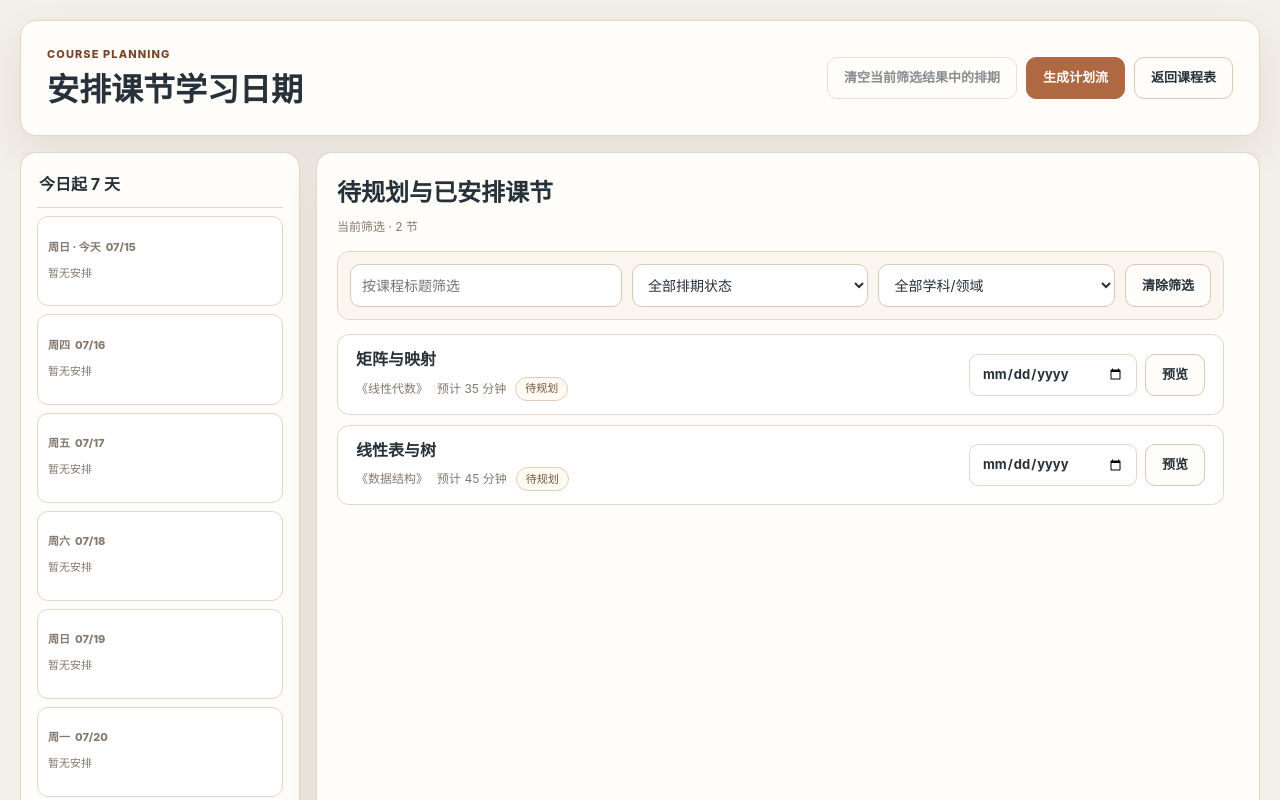
Test: PlanningWorkspaceView date scheduling › filters lessons by course title without matching lesson titles
Type "线性代数" into the search field labelled "课程标题" at (486, 286), box [350,264,622,307]
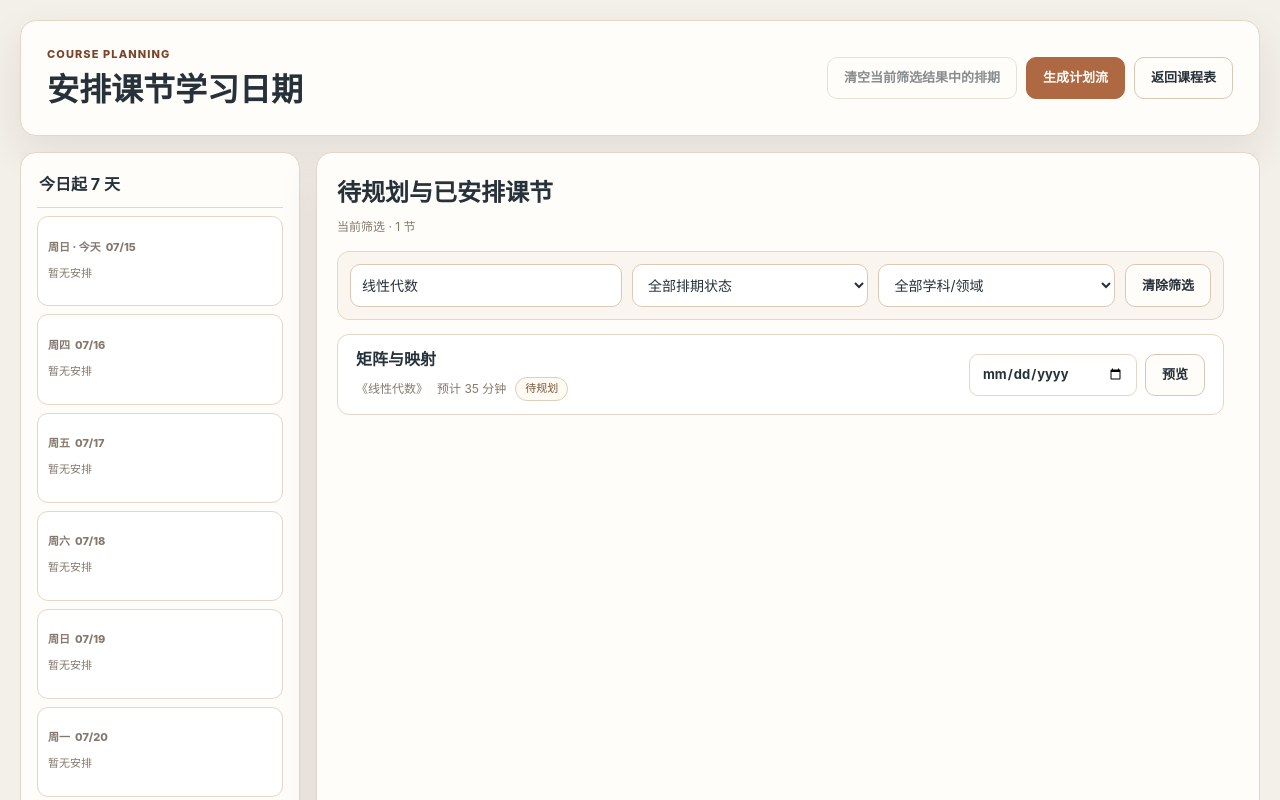
Check: the heading "矩阵与映射" is shown, box [356,349,436,369]
Check: the heading "线性表与树" is gone
Replace the text in the search field named "课程标题" with "线性表" at (486, 286), box [350,264,622,307]
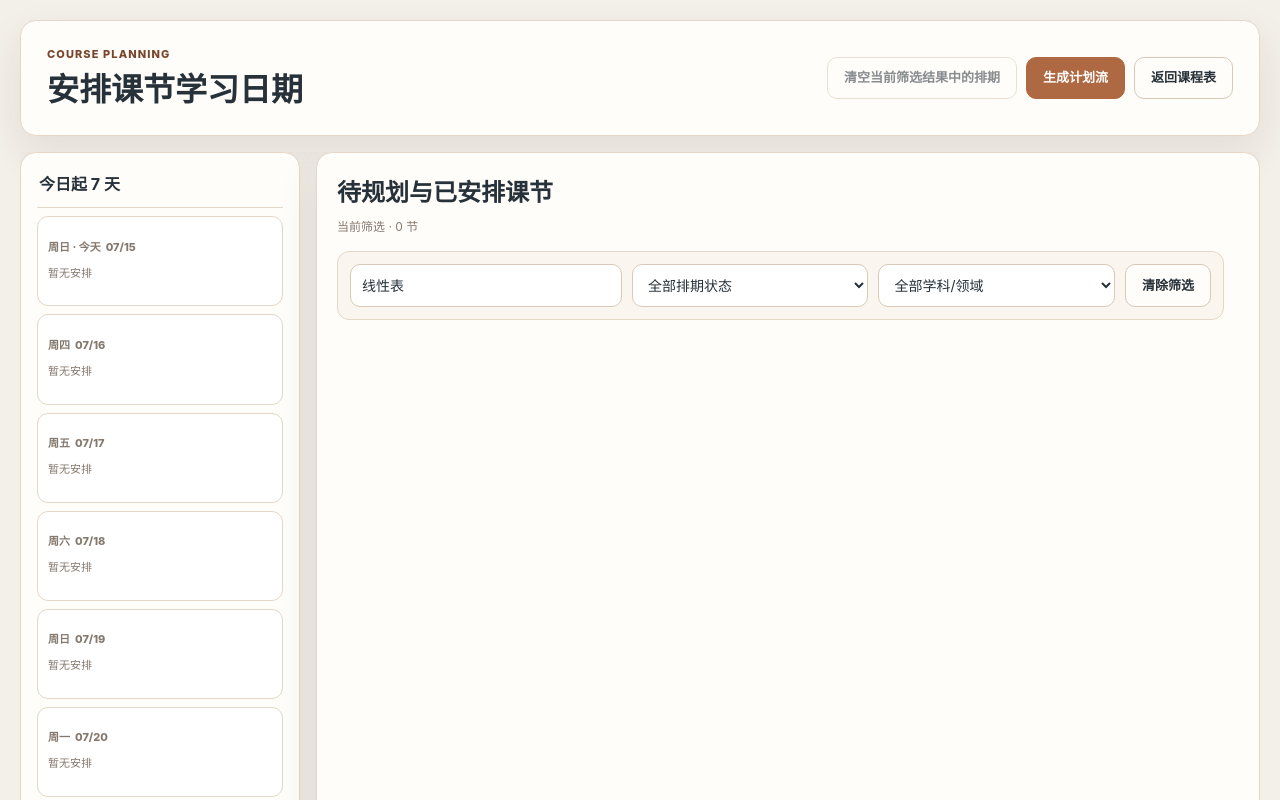
Check: the heading "线性表与树" is not shown
Check: the heading "矩阵与映射" is gone
